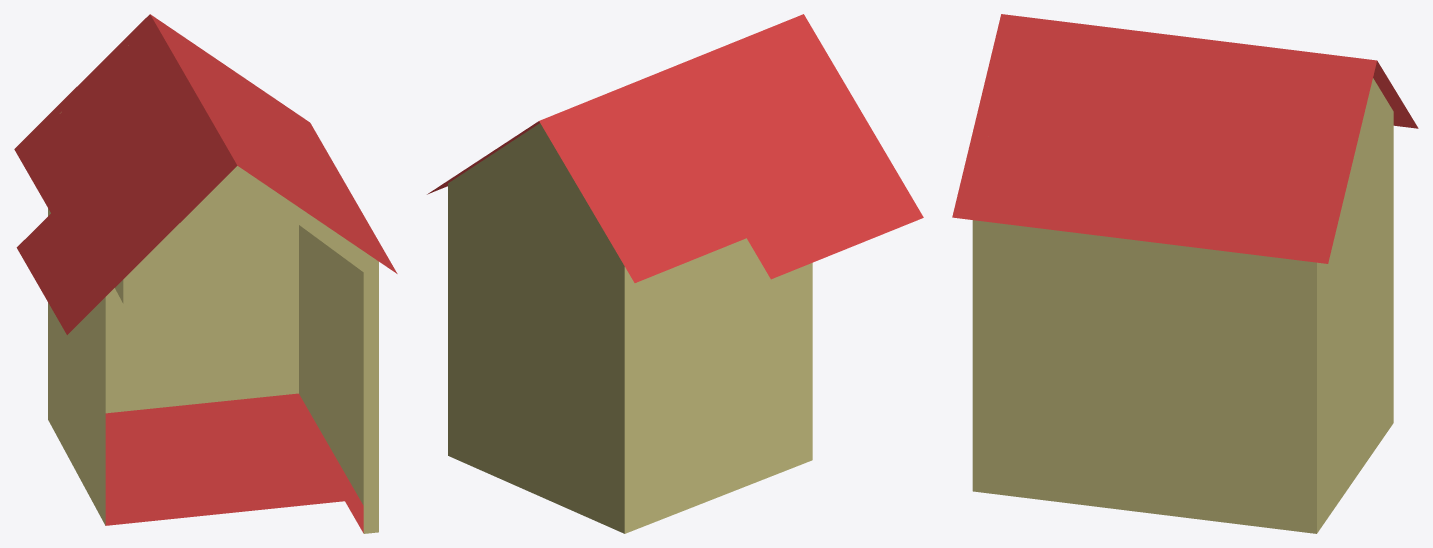
3 renders of one model, left to right at view 1: azimuth 30°, elevation 25°; view 2: azimuth 150°, elevation 25°; view 3: azimuth 270°, elevation 25°, orthographic. The views are drawn at different scales.
Size of the model in its own units: 13.79 by 14.1 by 13.72.
